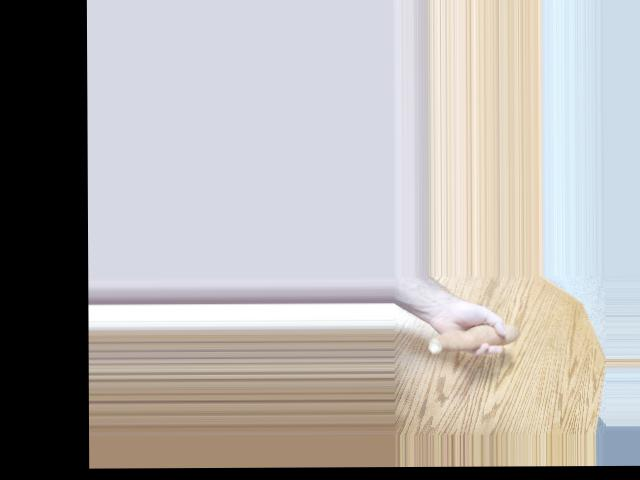sweet_potato: (425, 319, 526, 351)
